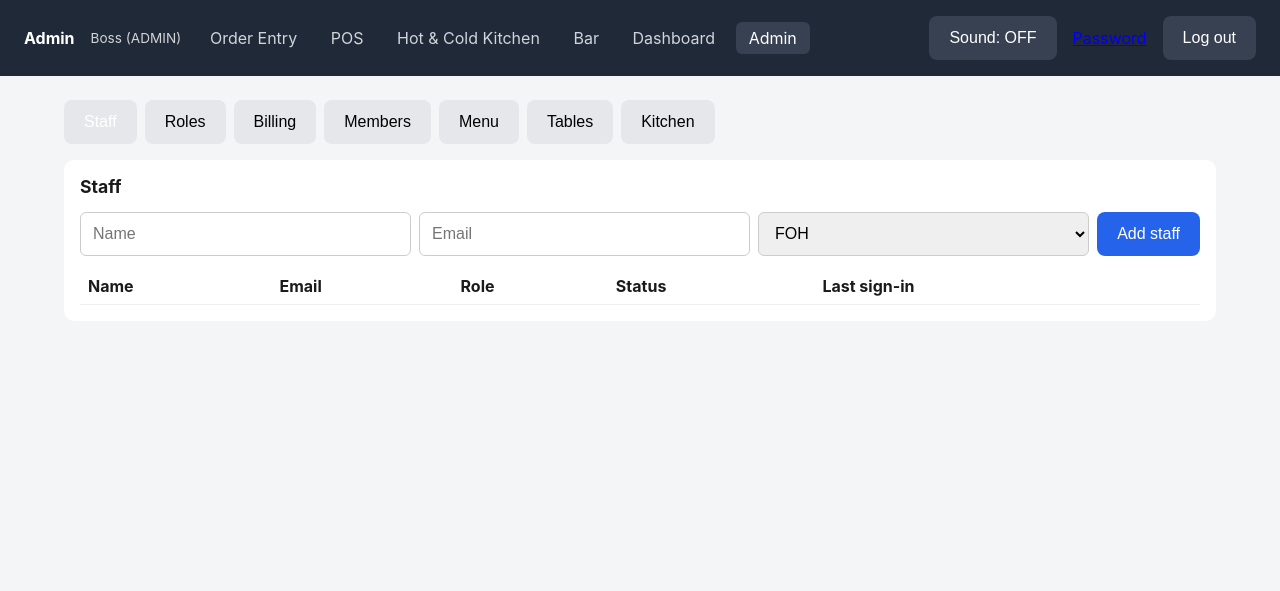
Test: admin page › a dish can be switched to 'count stock' from the menu list
Click the button "Menu" at (479, 122), box [439, 100, 519, 144]
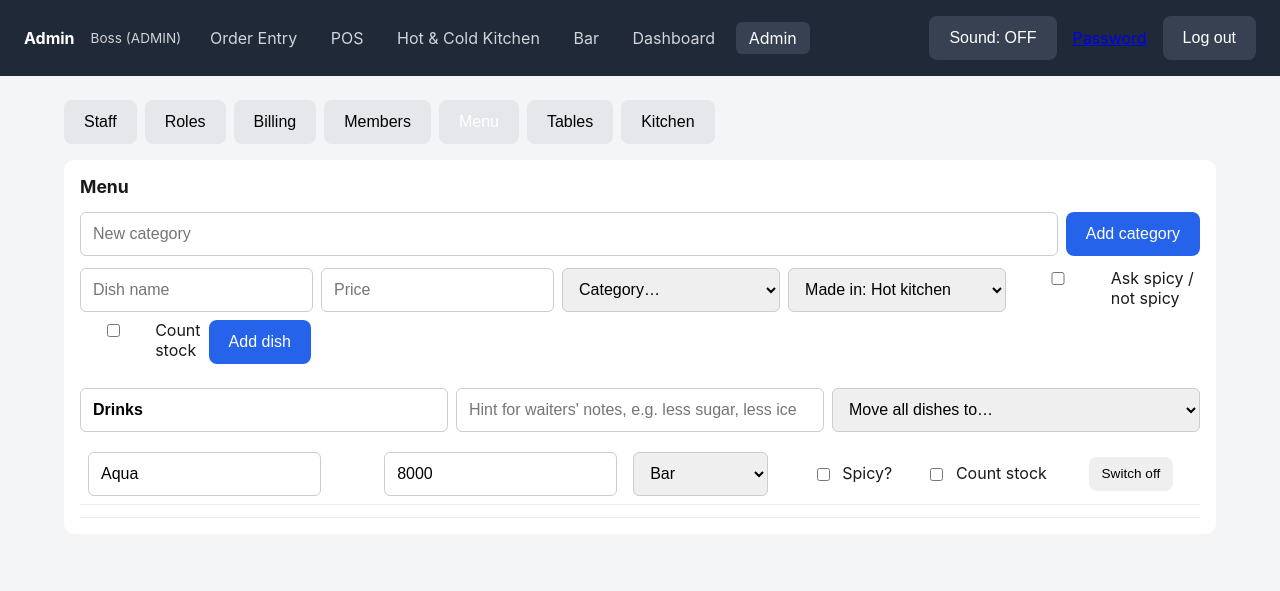
Click the checkbox named "Count stock for Aqua" at (937, 474), box [930, 468, 943, 481]
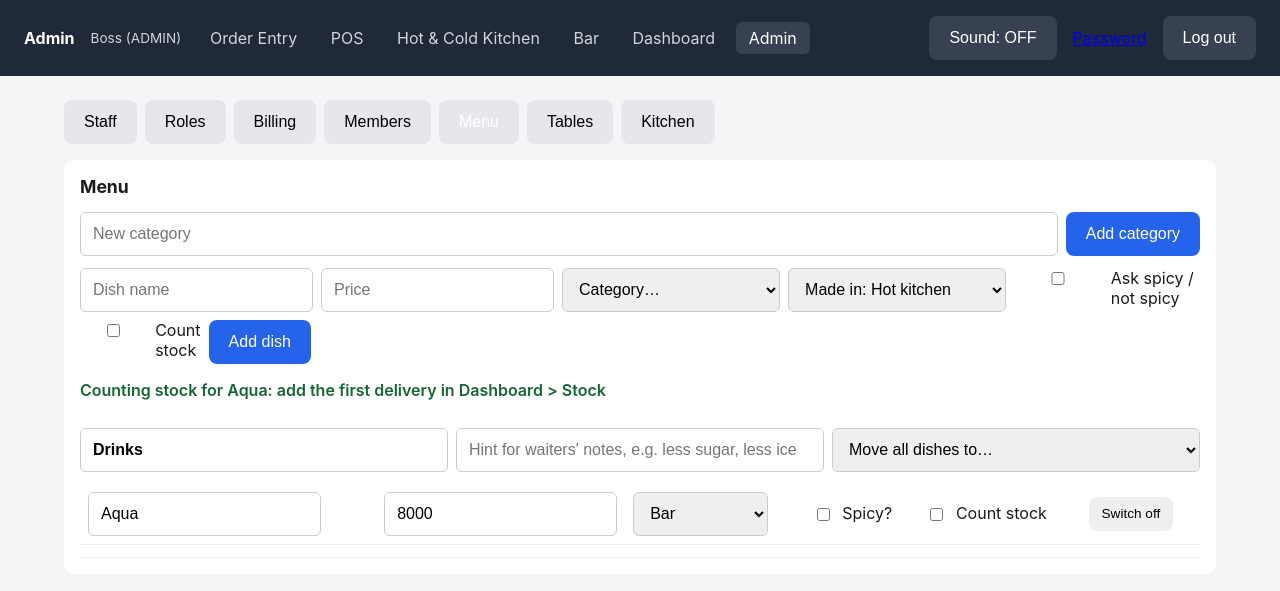
expect the text "Counting stock for Aqua: add the first delivery in Dashboard > Stock" is shown: met, box [80, 380, 606, 400]
